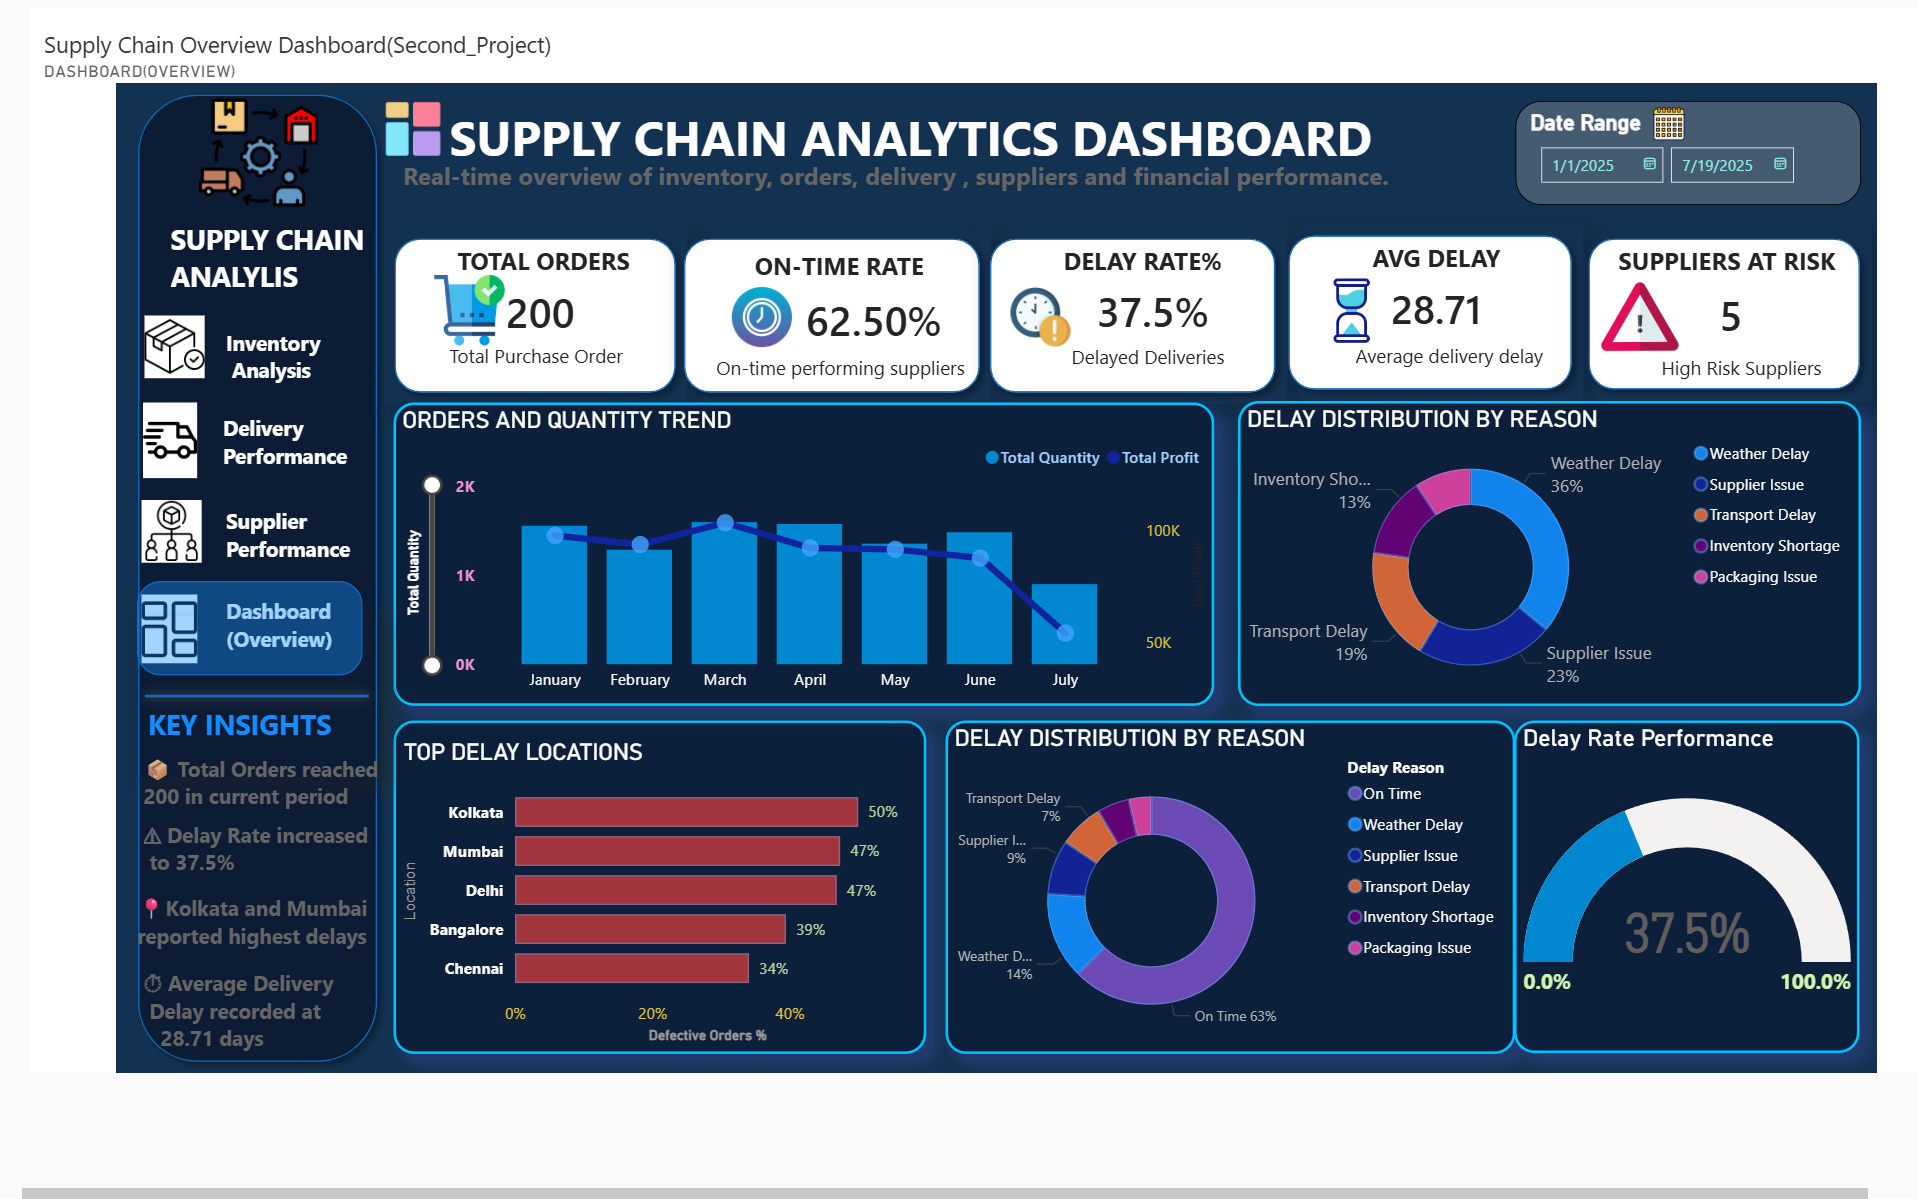

What the dashboard file says about the page in this screenshot:
{"tool":"powerbi","page":{"name":"Dashboard(Overview)","canvas":[1366,768],"ordinal":0},"visuals":[{"type":"shape","box":[8.3,0,203.3,768.3],"z":0},{"type":"textbox","box":[253.7,11.3,764.3,87.3],"z":1000},{"type":"textbox","box":[218,53,791.9,63.6],"z":2000},{"type":"shape","box":[206.8,111.5,235.9,137.4],"z":3000},{"type":"textbox","box":[231.1,119.6,200.4,38.8],"z":4000},{"type":"cardVisual","fields":{"Data":["Key Measures.Total Orders"]},"box":[273.1,118,184.2,116.3],"z":5000},{"type":"textbox","box":[253.7,195.5,203.6,66.3],"z":6000},{"type":"shape","box":[431.5,111.5,247.2,137.4],"z":7000},{"type":"shape","box":[669,111.5,239.2,137.4],"z":8000},{"type":"textbox","box":[421.8,122.8,279.6,63],"z":9000},{"type":"cardVisual","fields":{"Data":["Key Measures.On Time Rate"]},"box":[505.8,87.3,200.4,189.1],"z":10000},{"type":"textbox","box":[407.2,205.2,305.4,30.7],"z":11000},{"type":"textbox","box":[565.6,119.6,479.9,33.9],"z":12000},{"type":"cardVisual","fields":{"Data":["Key Measures.Delay Rate %"]},"box":[732,103.4,189.1,143.8],"z":13000},{"type":"textbox","box":[712.6,197.1,179.4,32.3],"z":14000},{"type":"slicer","title":"Date Range","fields":{"Values":["Supply Chain Data.Order Date"]},"box":[1085.7,14.4,268.2,80.7],"z":15000},{"type":"image","box":[1191,10.1,28.8,41.8],"z":16000},{"type":"shape","box":[900.1,109.9,237.5,137.4],"z":17000},{"type":"textbox","box":[900.1,118,273.1,35.6],"z":18000},{"type":"textbox","box":[956.6,195.5,160,255.3],"z":19000},{"type":"cardVisual","fields":{"Data":["Key Measures.Avg Delay (Days)"]},"box":[959.9,137.4,245.6,72.7],"z":20000},{"type":"shape","box":[1133.3,111.7,228.3,135],"z":21000},{"type":"textbox","box":[1131.7,120,235,36.7],"z":22000},{"type":"textbox","box":[1194.2,205.2,171.3,38.8],"z":23000},{"type":"cardVisual","fields":{"Data":["Key Measures.Suppliers at Risk"]},"box":[1215,115,151.7,126.7],"z":24000},{"type":"image","box":[1145,151.7,75,60],"z":25000},{"type":"clusteredBarChart","title":"TOP DELAY LOCATIONS","fields":{"Y":["Key Measures.Defective Orders %"],"Category":["Supply Chain Data.Location"]},"box":[215,495,413.3,258.3],"z":26000},{"type":"donutChart","title":"DELAY DISTRIBUTION BY REASON","fields":{"Category":["Supply Chain Data.Delay Reason"],"Y":["Key Measures.Delayed Orders"]},"box":[870,246.7,483.3,236.7],"z":27000},{"type":"image","box":[206.8,14.5,46.9,43.6],"z":28000},{"type":"image","box":[231.1,148.7,85.6,54.9],"z":29000},{"type":"image","box":[441.2,158.4,119.6,46.9],"z":30000},{"type":"image","box":[686.8,158.4,61.4,46.9],"z":31000},{"type":"image","box":[924.3,101.8,69.5,150.3],"z":32000},{"type":"lineClusteredColumnComboChart","title":"ORDERS AND QUANTITY TREND","fields":{"Category":["Supply Chain Data.Order Date.Variation.Date Hierarchy.Month"],"Y":["Key Measures.Total Quantity"],"Y2":["Key Measures.Total Profit"]},"box":[215,248.3,636.7,235],"z":33000},{"type":"donutChart","title":"DELAY DISTRIBUTION BY REASON","fields":{"Y":["CountNonNull(Supply Chain Data.Order ID)"],"Category":["Supply Chain Data.Delay Reason"]},"box":[643.3,495,441.7,258.3],"z":34000},{"type":"gauge","title":"Delay Rate Performance","fields":{"Y":["Key Measures.Delay Rate %"]},"box":[1085,495,268,258],"z":35000},{"type":"image","box":[60,5,100,98.3],"z":36000},{"type":"image","box":[21.7,180,46.7,48.3],"z":37000,"group":"g1"},{"type":"image","box":[20,323.3,46.7,48.3],"z":37000},{"type":"image","box":[21.7,248.4,41.7,58.3],"z":38000,"group":"g2"},{"type":"image","box":[20,396.7,43.3,53.3],"z":38000},{"type":"textbox","box":[36.7,101.7,216.7,86.7],"z":39000},{"type":"textbox","box":[80,323.3,135,70],"z":40000},{"type":"textbox","box":[80,393.3,166.7,60],"z":41000},{"type":"textbox","box":[80,185,126.7,56.7],"z":42000,"group":"g1"},{"type":"shape","box":[15,413.3,188.3,125],"z":42000},{"type":"textbox","box":[78.4,251.7,186.7,55],"z":43000,"group":"g2"},{"type":"textbox","box":[20,476.7,300,38.3],"z":43000},{"type":"textbox","box":[16.7,515,300,53.3],"z":44000},{"type":"textbox","box":[16.7,566.7,300,56.7],"z":45000},{"type":"textbox","box":[6.7,623.3,300,58.3],"z":46000},{"type":"textbox","box":[16.7,681.7,201.7,86.7],"z":47000},{"type":"shape","box":[16.7,386.7,175,73.3],"z":48000},{"type":"group","id":"g1","title":"Group 1","box":[21.7,174.4,185,70],"z":49000},{"type":"actionButton","box":[22.2,329.4,178.3,51.7],"z":50000},{"type":"group","id":"g2","title":"Group 2","box":[15.6,247.8,249.4,58.9],"z":51000},{"type":"actionButton","box":[27.3,174.4,166.7,70],"z":52002,"group":"g1"},{"type":"actionButton","box":[15.6,247.8,183.3,53.3],"z":52005,"group":"g2"}]}

Visuals, with their boxes on the page's 1366x768 design canvas (x1, y1, x2, y2). These are canvas units, not pixel positions in the 1918x1199 screenshot, which may show the page scaled, cropped or inside an application window:
shape: [left=8, top=0, right=212, bottom=768]
textbox: [left=254, top=11, right=1018, bottom=99]
textbox: [left=218, top=53, right=1010, bottom=117]
shape: [left=207, top=112, right=443, bottom=249]
textbox: [left=231, top=120, right=432, bottom=158]
cardVisual - Key Measures.Total Orders: [left=273, top=118, right=457, bottom=234]
textbox: [left=254, top=196, right=457, bottom=262]
shape: [left=432, top=112, right=679, bottom=249]
shape: [left=669, top=112, right=908, bottom=249]
textbox: [left=422, top=123, right=701, bottom=186]
cardVisual - Key Measures.On Time Rate: [left=506, top=87, right=706, bottom=276]
textbox: [left=407, top=205, right=713, bottom=236]
textbox: [left=566, top=120, right=1046, bottom=154]
cardVisual - Key Measures.Delay Rate %: [left=732, top=103, right=921, bottom=247]
textbox: [left=713, top=197, right=892, bottom=229]
"Date Range" slicer: [left=1086, top=14, right=1354, bottom=95]
image: [left=1191, top=10, right=1220, bottom=52]
shape: [left=900, top=110, right=1138, bottom=247]
textbox: [left=900, top=118, right=1173, bottom=154]
textbox: [left=957, top=196, right=1117, bottom=451]
cardVisual - Key Measures.Avg Delay (Days): [left=960, top=137, right=1206, bottom=210]
shape: [left=1133, top=112, right=1362, bottom=247]
textbox: [left=1132, top=120, right=1367, bottom=157]
textbox: [left=1194, top=205, right=1366, bottom=244]
cardVisual - Key Measures.Suppliers at Risk: [left=1215, top=115, right=1367, bottom=242]
image: [left=1145, top=152, right=1220, bottom=212]
"TOP DELAY LOCATIONS" clusteredBarChart: [left=215, top=495, right=628, bottom=753]
"DELAY DISTRIBUTION BY REASON" donutChart: [left=870, top=247, right=1353, bottom=483]
image: [left=207, top=14, right=254, bottom=58]
image: [left=231, top=149, right=317, bottom=204]
image: [left=441, top=158, right=561, bottom=205]
image: [left=687, top=158, right=748, bottom=205]
image: [left=924, top=102, right=994, bottom=252]
"ORDERS AND QUANTITY TREND" lineClusteredColumnComboChart: [left=215, top=248, right=852, bottom=483]
"DELAY DISTRIBUTION BY REASON" donutChart: [left=643, top=495, right=1085, bottom=753]
"Delay Rate Performance" gauge: [left=1085, top=495, right=1353, bottom=753]
image: [left=60, top=5, right=160, bottom=103]
image: [left=22, top=180, right=68, bottom=228]
image: [left=20, top=323, right=67, bottom=372]
image: [left=22, top=248, right=63, bottom=307]
image: [left=20, top=397, right=63, bottom=450]
textbox: [left=37, top=102, right=253, bottom=188]
textbox: [left=80, top=323, right=215, bottom=393]
textbox: [left=80, top=393, right=247, bottom=453]
textbox: [left=80, top=185, right=207, bottom=242]
shape: [left=15, top=413, right=203, bottom=538]
textbox: [left=78, top=252, right=265, bottom=307]
textbox: [left=20, top=477, right=320, bottom=515]
textbox: [left=17, top=515, right=317, bottom=568]
textbox: [left=17, top=567, right=317, bottom=623]
textbox: [left=7, top=623, right=307, bottom=682]
textbox: [left=17, top=682, right=218, bottom=768]
shape: [left=17, top=387, right=192, bottom=460]
"Group 1" group: [left=22, top=174, right=207, bottom=244]
actionButton: [left=22, top=329, right=200, bottom=381]
"Group 2" group: [left=16, top=248, right=265, bottom=307]
actionButton: [left=27, top=174, right=194, bottom=244]
actionButton: [left=16, top=248, right=199, bottom=301]
